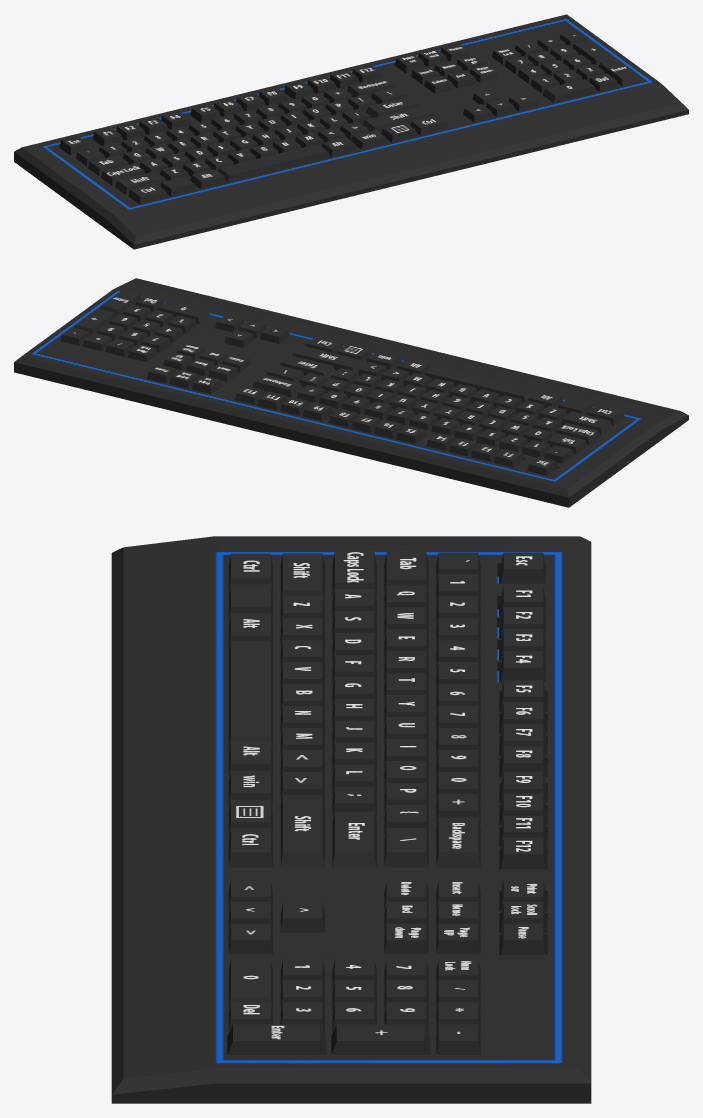
Rendered from Keyboard.glb.
3 renders of one model, top to bottom at view 1: azimuth 30°, elevation 25°; view 2: azimuth 150°, elevation 25°; view 3: azimuth 270°, elevation 25°, orthographic. The views are drawn at different scales.
Parts seen in each view (by area): view 1: Keyboard1; view 2: Keyboard1; view 3: Keyboard1.
Part boxes in pixels (x1,y1,x2,y2): Keyboard1: (14,14,688,249); Keyboard1: (14,278,688,507); Keyboard1: (111,536,591,1103).
Bounding box in the file's own units: 415 × 15.64 × 155.
1 material, 1 textured.
